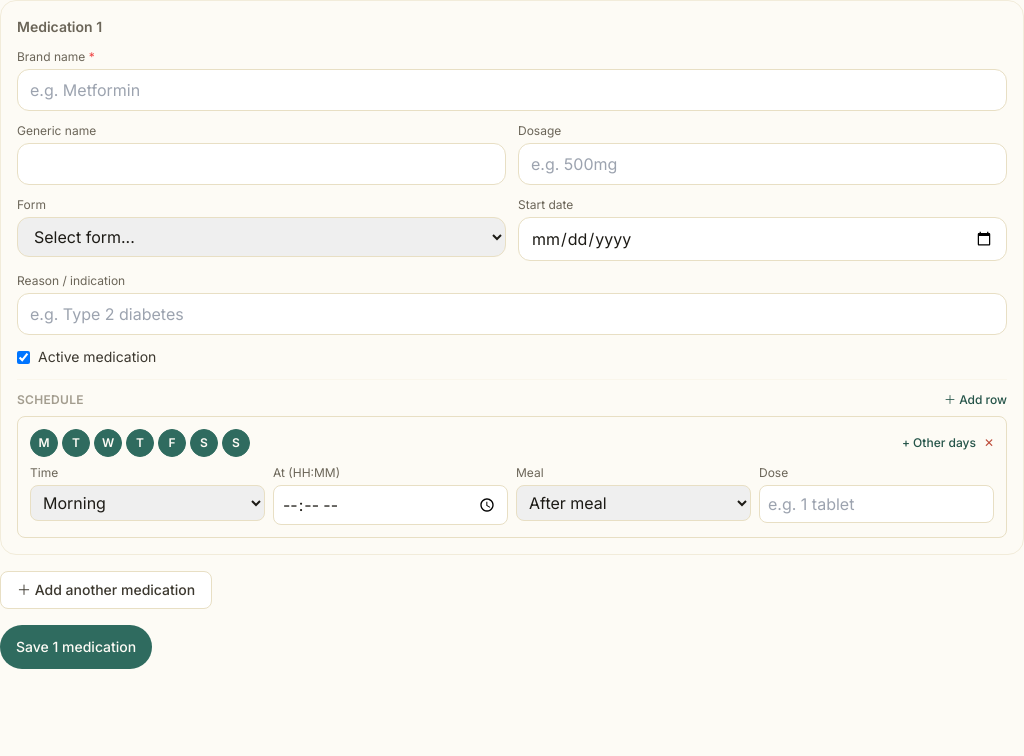
Test case: MedicationForm › adds a schedule row
Expected: the number of buttons "✕" is 1, [984,435,994,451]
Click the button "＋ Add row" at (975, 400), box [944,392,1007,408]
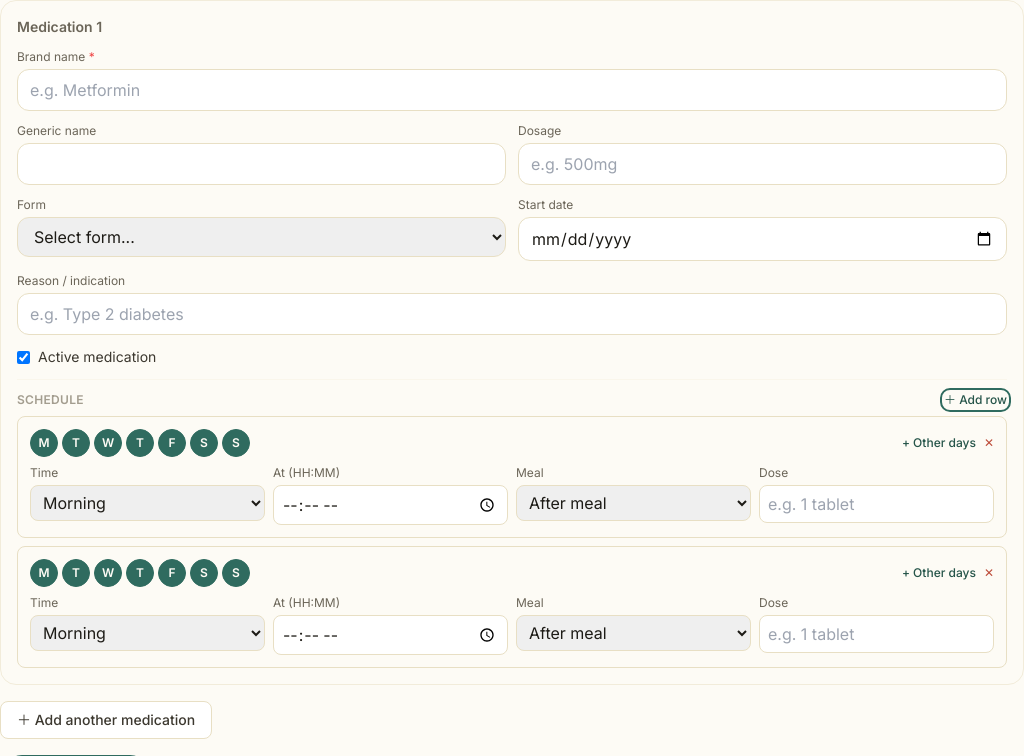
Now the number of buttons "✕" is 2, box [984,435,994,451]; [984,565,994,581]
